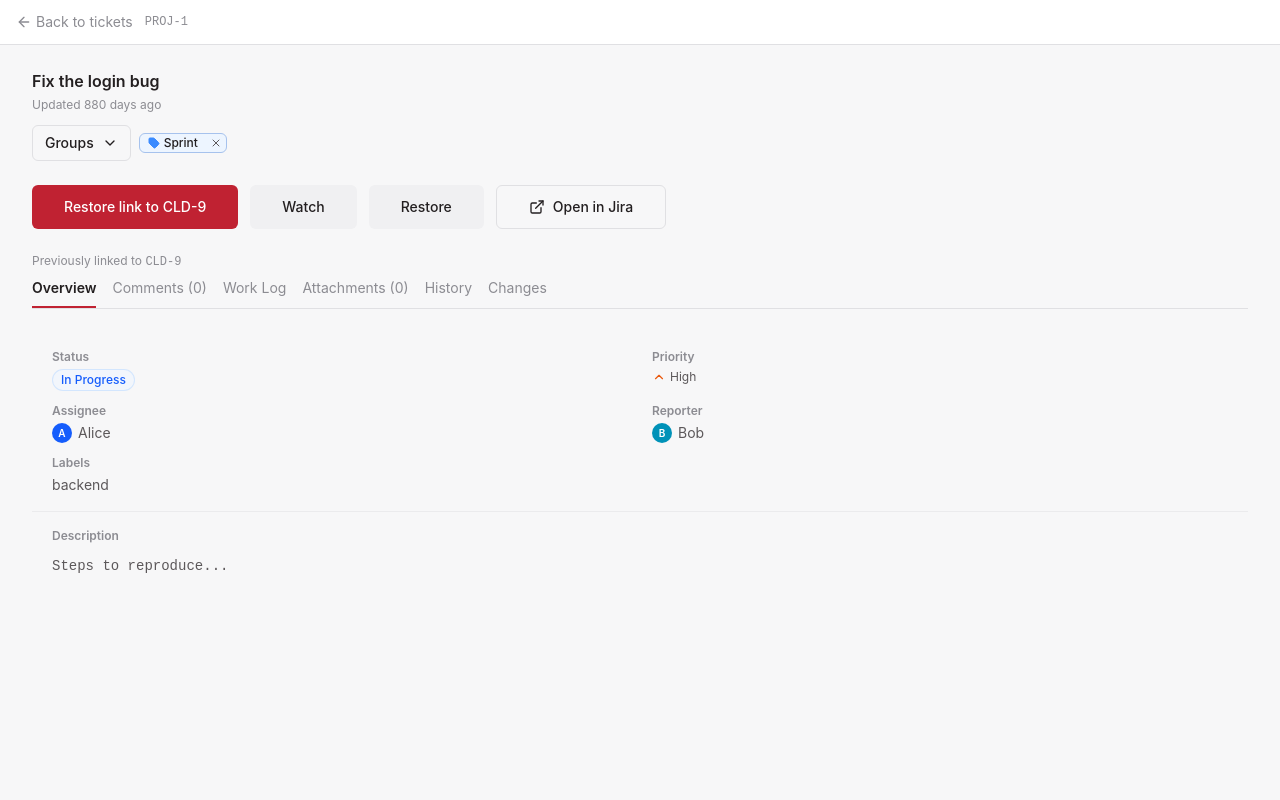
Scenario: TicketDetailPage › Phase 36 deny / link › Restore link with no key hands off to the copy preview
The image size is (1280, 800).
Click the button "Restore link to CLD-9" at [135, 207], box [32,185,238,229]
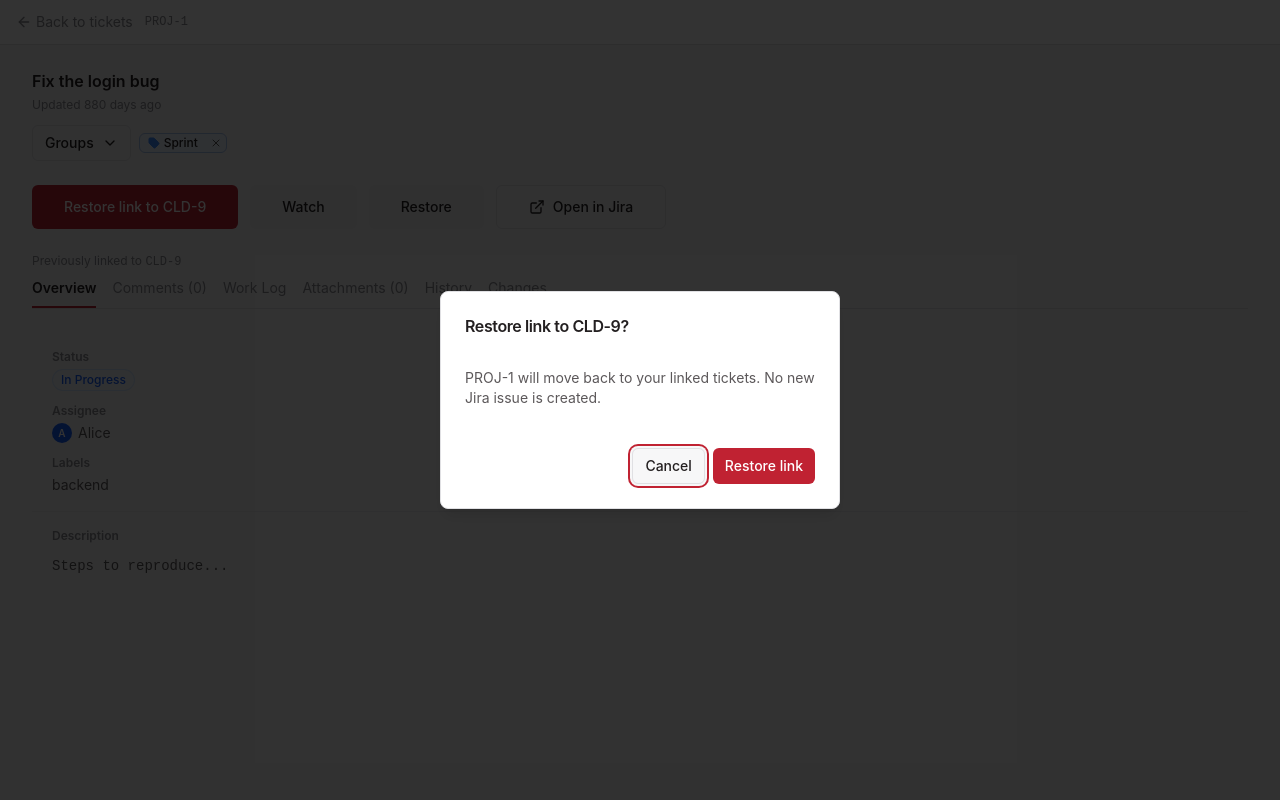
Click the button "Restore link" at [764, 466], box [713,448,815,484]
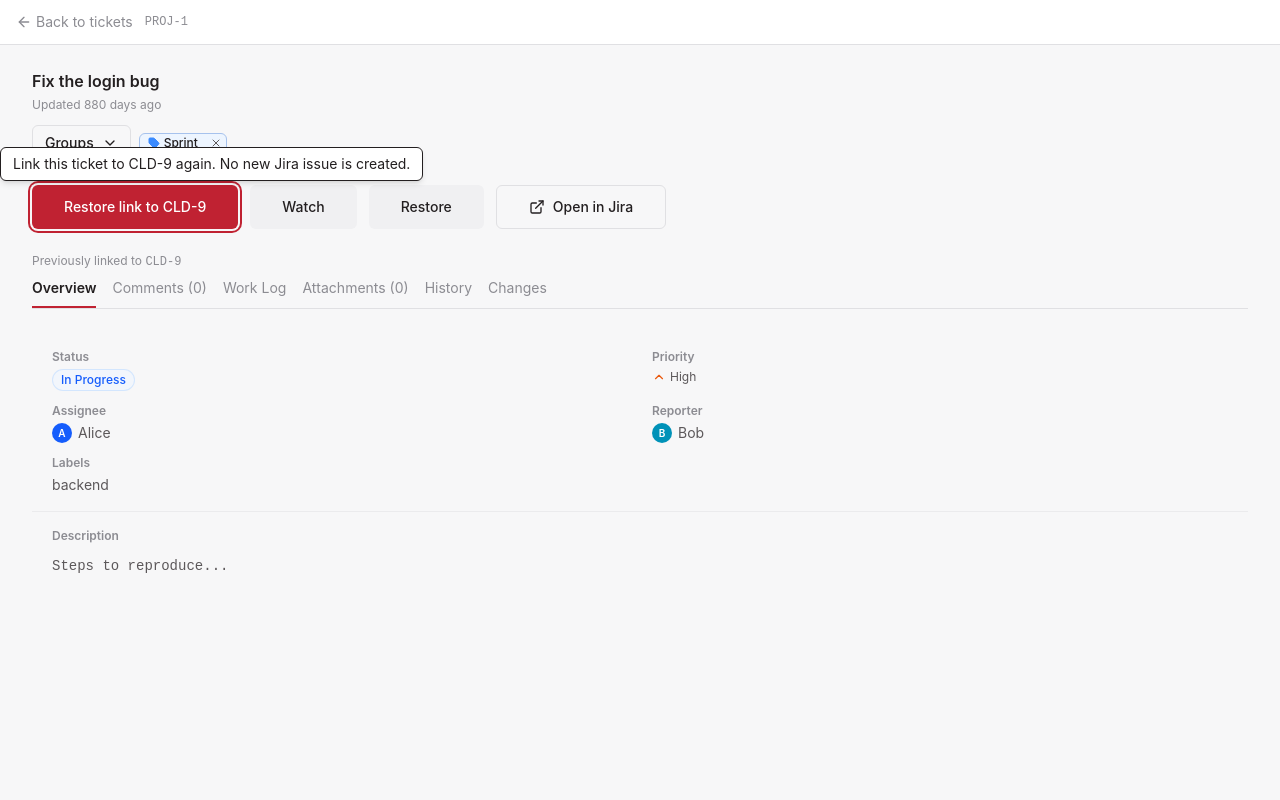
expect the dialog is gone: met
